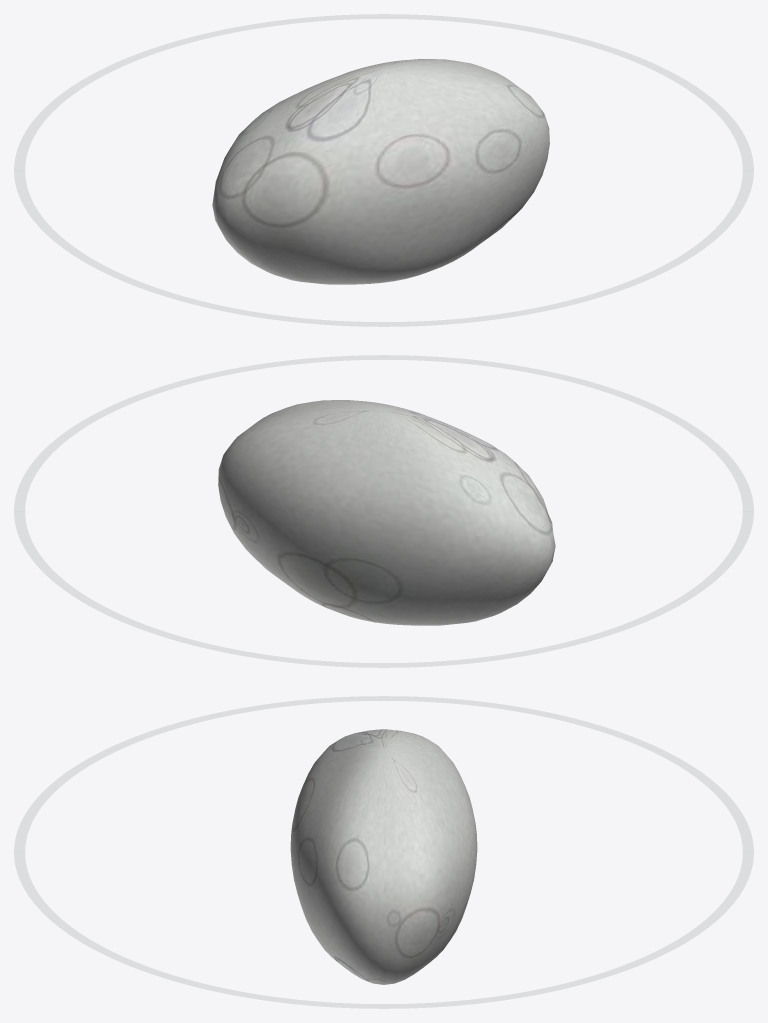
The model's file is haumea.glb.
3 renders of one model, top to bottom at view 1: azimuth 30°, elevation 25°; view 2: azimuth 150°, elevation 25°; view 3: azimuth 270°, elevation 25°, orthographic.
Size of the model in its own units: 5.95 by 1.78 by 5.95.
2 materials, 1 textured.
